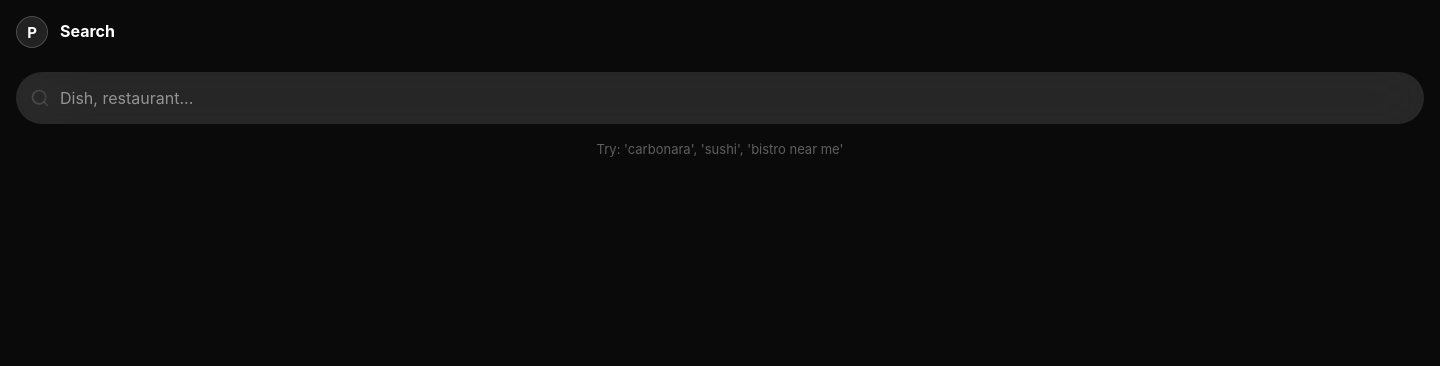
Test: SearchScreen — results › renders restaurant name and address in each card
Type "sushi" into the search field with placeholder "Dish, restaurant..." at (720, 98), box [16, 72, 1424, 124]
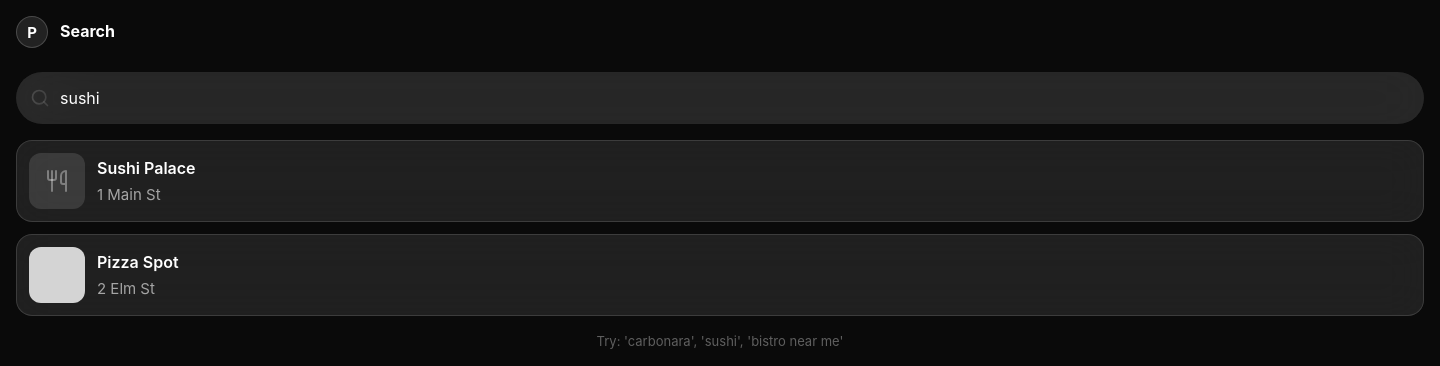
Result: the text "Sushi Palace" is shown at [97, 156, 196, 180]
Result: the text "1 Main St" is shown at [97, 185, 160, 204]
Result: the text "Pizza Spot" is shown at [97, 250, 179, 274]
